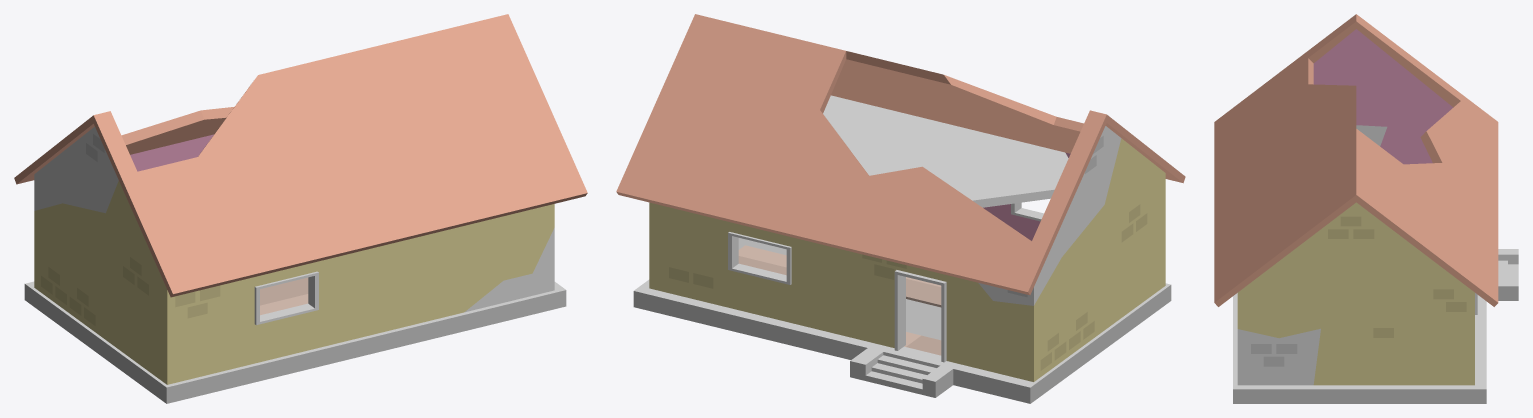
Rendered from HouseRuined.fbx.
The picture shows the model from 3 angles, left to right: view 1: azimuth 30°, elevation 25°; view 2: azimuth 150°, elevation 25°; view 3: azimuth 270°, elevation 25°; orthographic projection. The views are drawn at different scales.
Visible parts, largest first — view 1: HouseRuined; view 2: HouseRuined; view 3: HouseRuined.
Boxes of the visible parts, <box> form: HouseRuined: <box>14,14,587,403</box>; HouseRuined: <box>616,14,1185,403</box>; HouseRuined: <box>1214,14,1518,403</box>.
Bounding box in the file's own units: 12.16 × 6.7 × 8.64.
